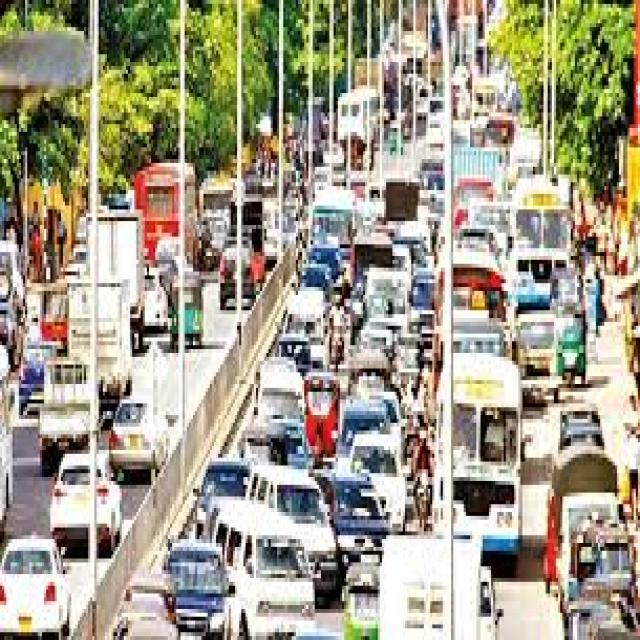bus: (453, 357, 518, 555), (512, 178, 567, 310), (134, 163, 193, 264)
car: (50, 454, 120, 555), (0, 539, 69, 640), (321, 473, 386, 570), (168, 543, 225, 640), (350, 434, 403, 535), (109, 400, 168, 481), (19, 353, 52, 415), (220, 248, 252, 310), (145, 268, 166, 330)
motorcycle: (413, 473, 430, 531)
three wheeler: (304, 372, 338, 465), (342, 555, 378, 640), (170, 272, 199, 349), (558, 318, 583, 384)
truck: (69, 279, 130, 392), (40, 361, 88, 477), (99, 213, 141, 314)
van: (210, 500, 313, 640), (246, 469, 336, 601)
